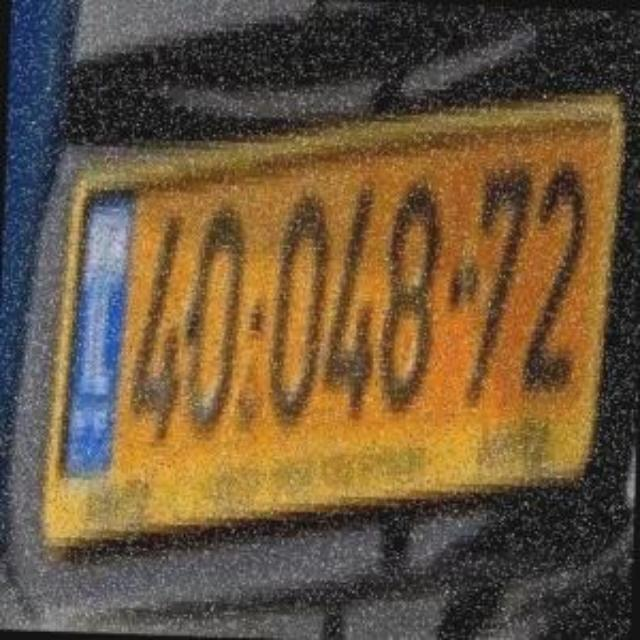License Plate: (23, 41, 637, 580)
